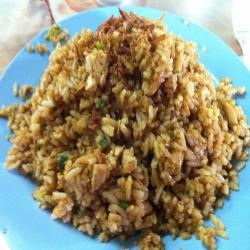rice: (25, 44, 233, 239)
